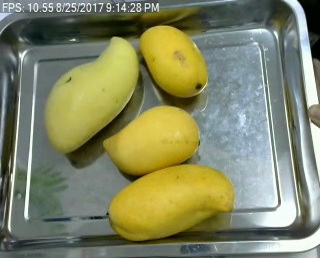Mango: (41, 34, 139, 153), (107, 164, 235, 241), (103, 103, 204, 178), (139, 19, 206, 97)
